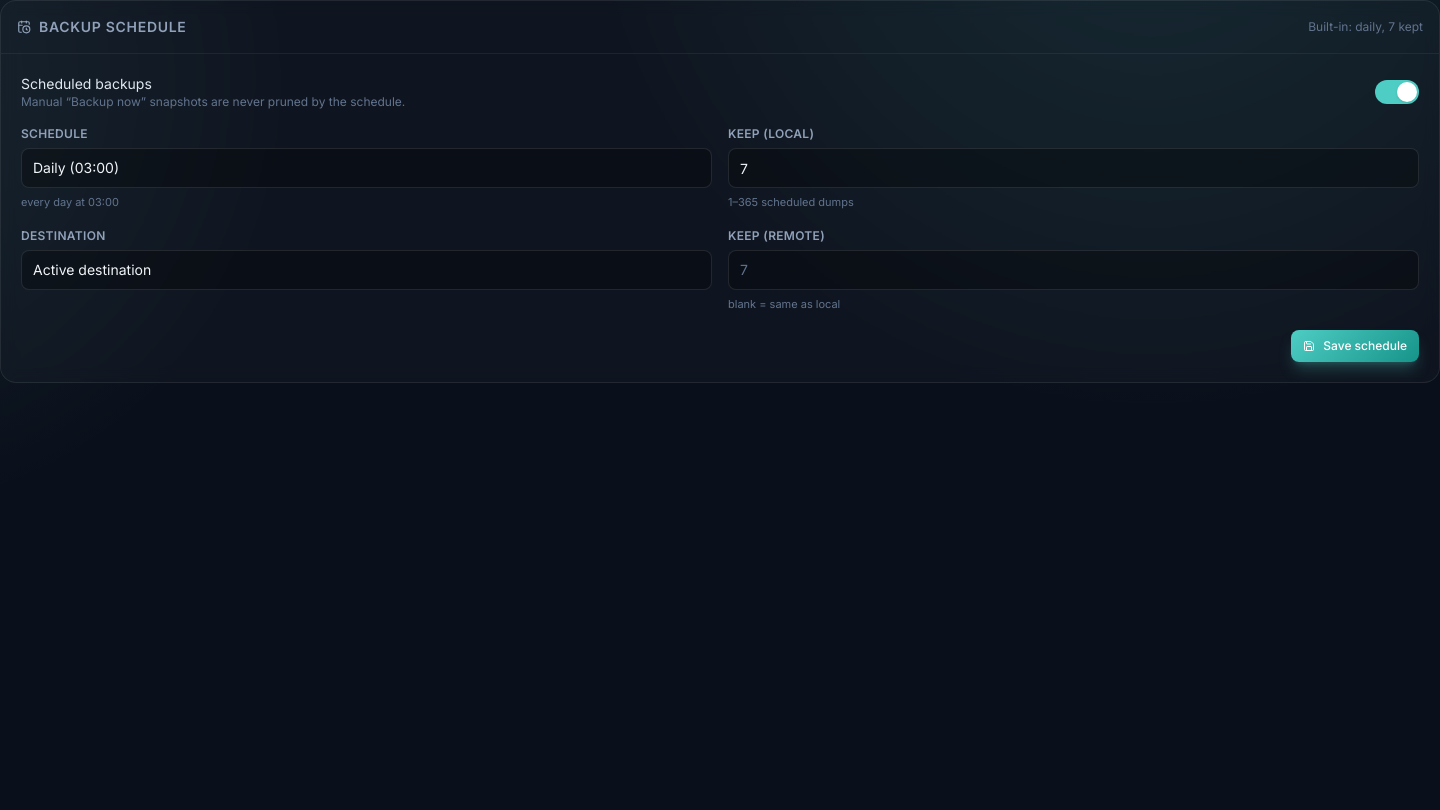
Test: BackupScheduleCard › reports a server refusal
Click the button "Save schedule".
click(1355, 346)  # box [1291, 330, 1419, 362]
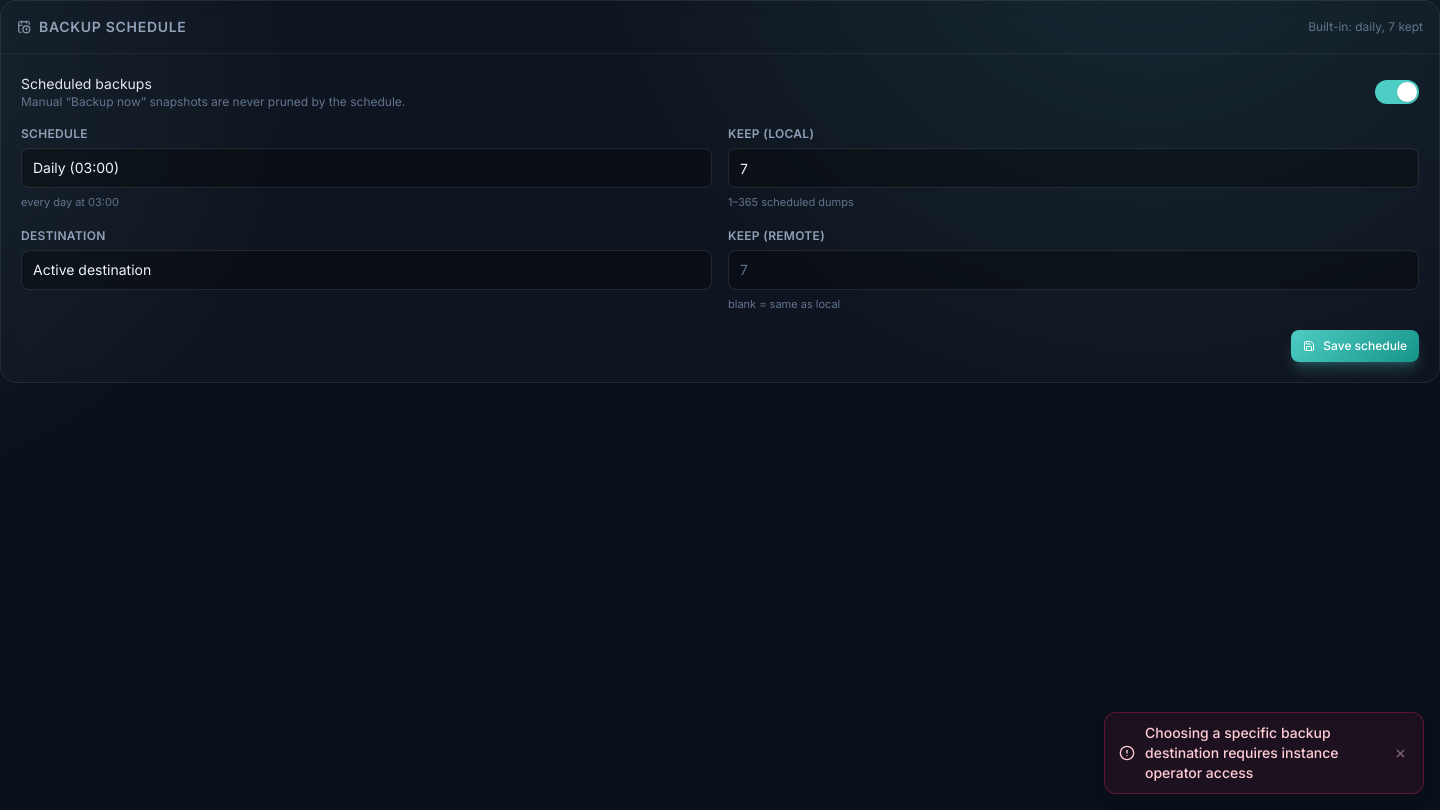
Expected: the text "requires instance operator access" is shown, [1145, 724, 1339, 781]
